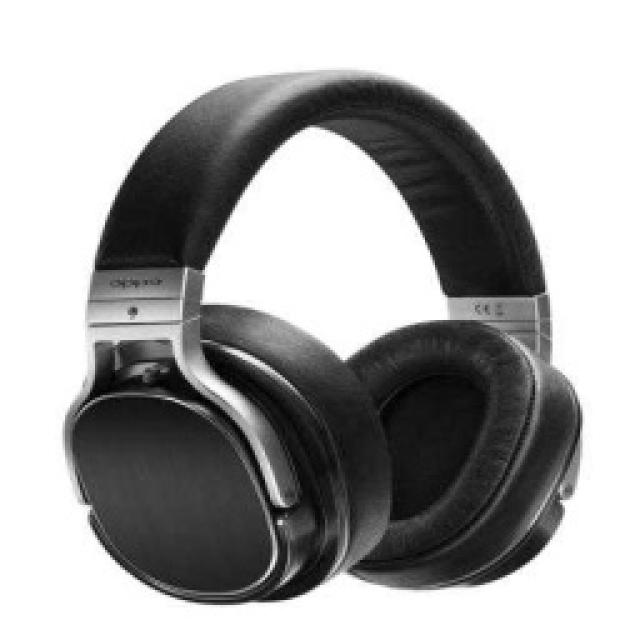headphones: (60, 65, 582, 605)
